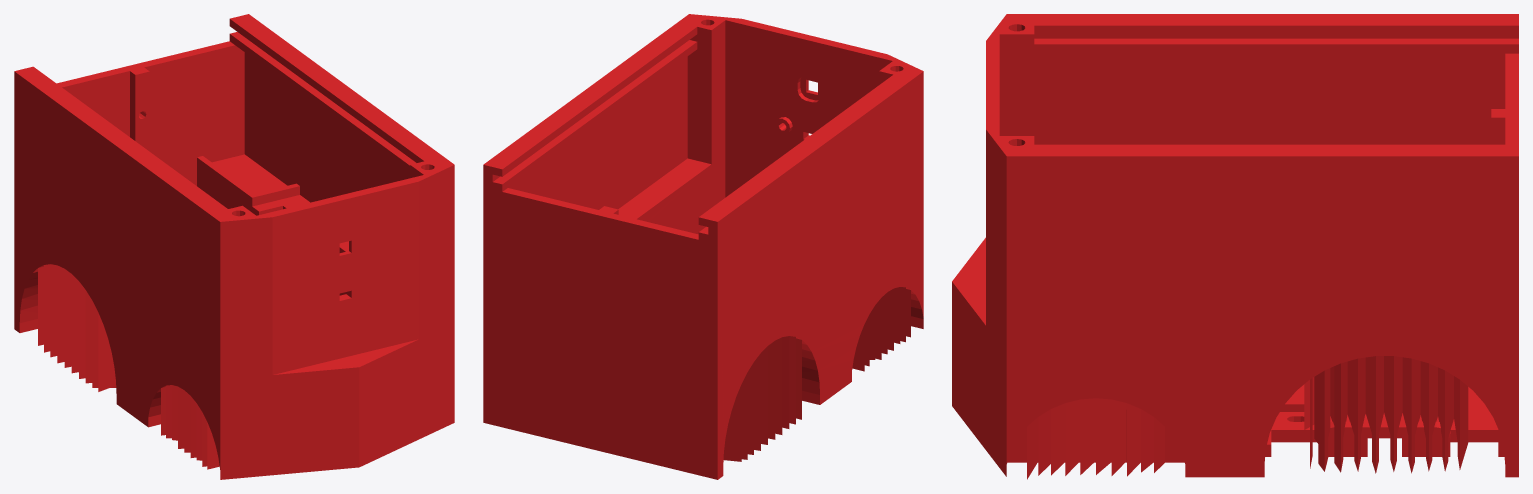
File: Korpus_podderzh.fbx
The picture shows the model from 3 angles, left to right: view 1: azimuth 30°, elevation 25°; view 2: azimuth 150°, elevation 25°; view 3: azimuth 270°, elevation 25°; orthographic projection. The views are drawn at different scales.
Visible parts, largest first — view 1: Корпус_VR; view 2: Корпус_VR; view 3: Корпус_VR.
Part boxes in pixels (x1,y1,x2,y2): Корпус_VR: (14,14,454,479); Корпус_VR: (483,14,923,479); Корпус_VR: (952,14,1518,479).
Bounding box in the file's own units: 9800 × 10503 × 16490.
